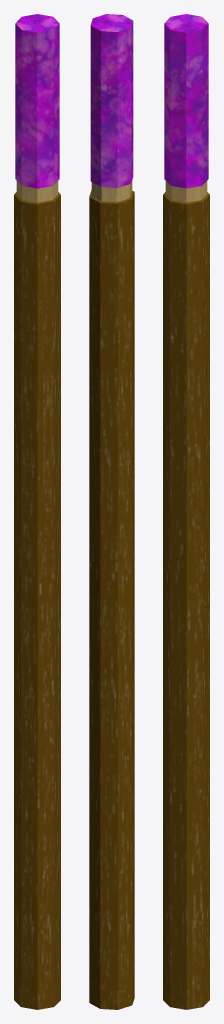
Rendered from Baston_malo.obj.
3 views of the same model, side by side, from view 1: azimuth 90°, elevation 25°; view 2: azimuth 150°, elevation 25°; view 3: azimuth 270°, elevation 25° (orthographic).
Visible parts, largest first — view 1: Cylinder.008; view 2: Cylinder.008; view 3: Cylinder.008.
Part boxes in pixels (x1,y1,x2,y2): Cylinder.008: (14,14,60,1009); Cylinder.008: (89,14,134,1009); Cylinder.008: (163,14,209,1009).
Size of the model in its own units: 0.2232 by 5.12 by 0.2232.
2 materials, 2 textured.
